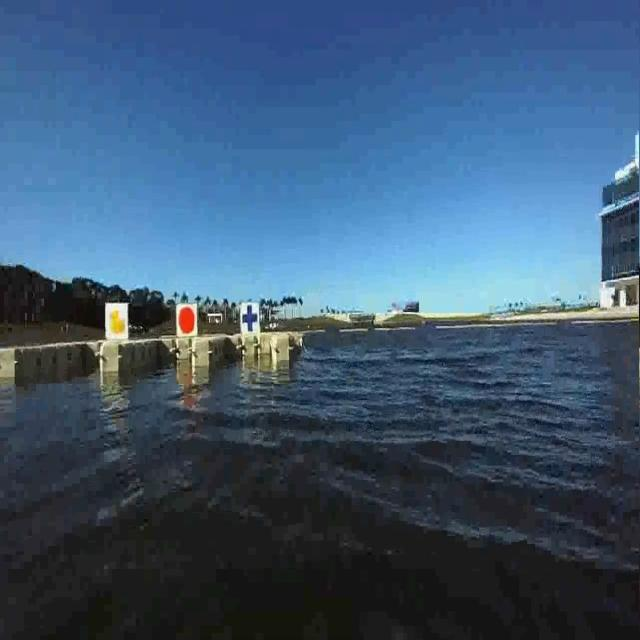blue-cross: (237, 296, 263, 344)
red-dot: (171, 298, 199, 338)
yellow-duck: (101, 291, 131, 347)
